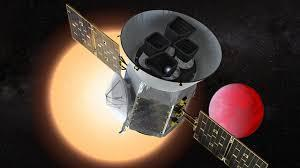antenna: (103, 70, 133, 121)
body: (119, 54, 200, 140)
solar: (190, 108, 270, 168), (64, 1, 123, 78)
thruster: (143, 50, 180, 80), (164, 14, 198, 39), (173, 35, 203, 62), (143, 30, 171, 53)
